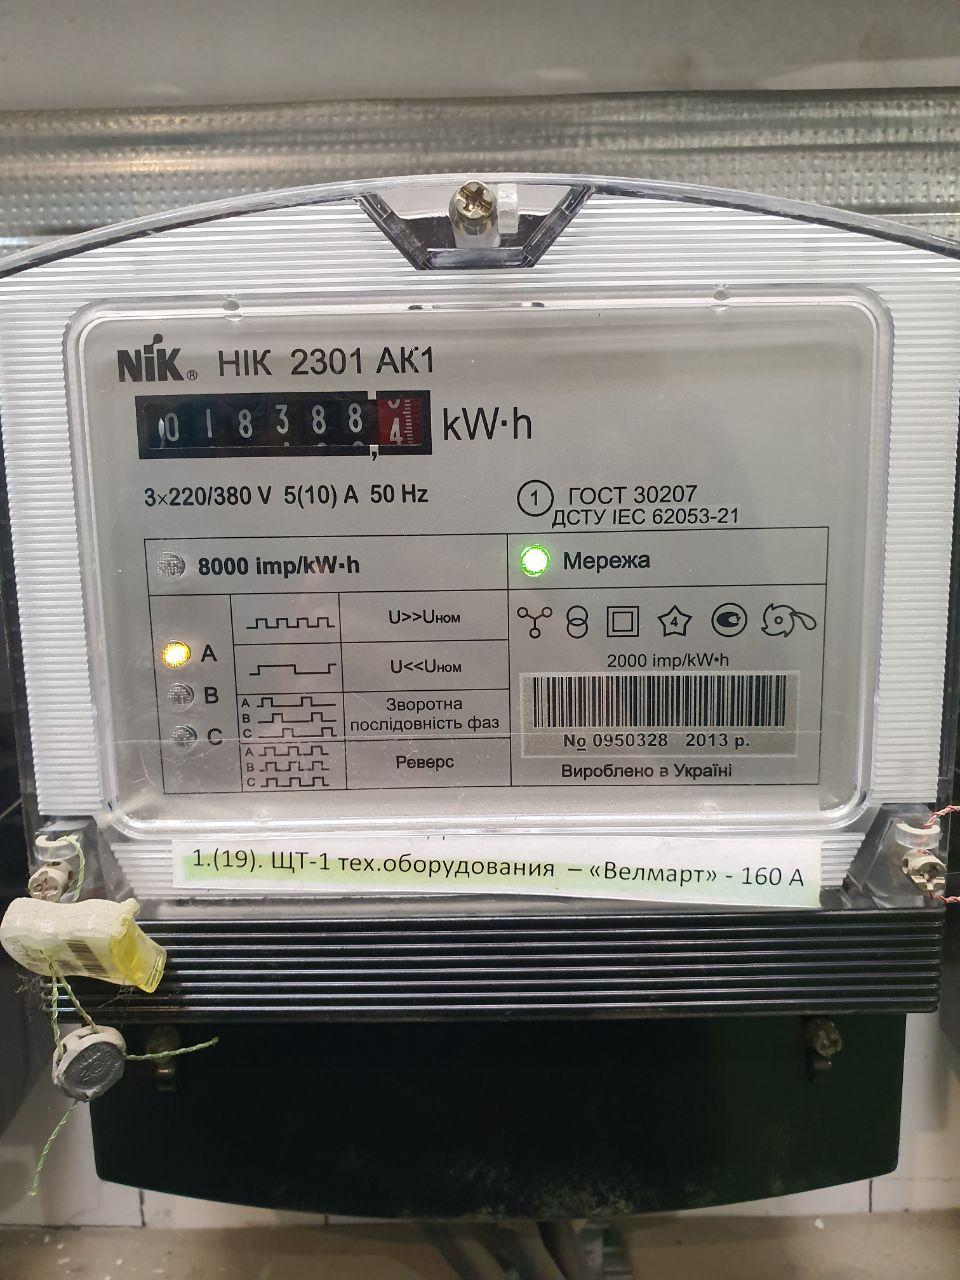counter: (7, 169, 956, 1210)
counter_screen: (129, 388, 437, 464)
